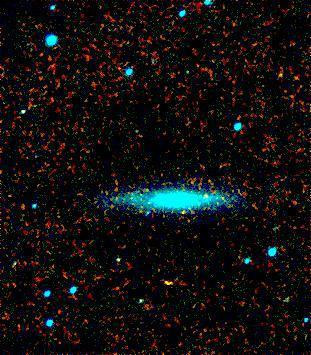star: (168, 197, 198, 227)
